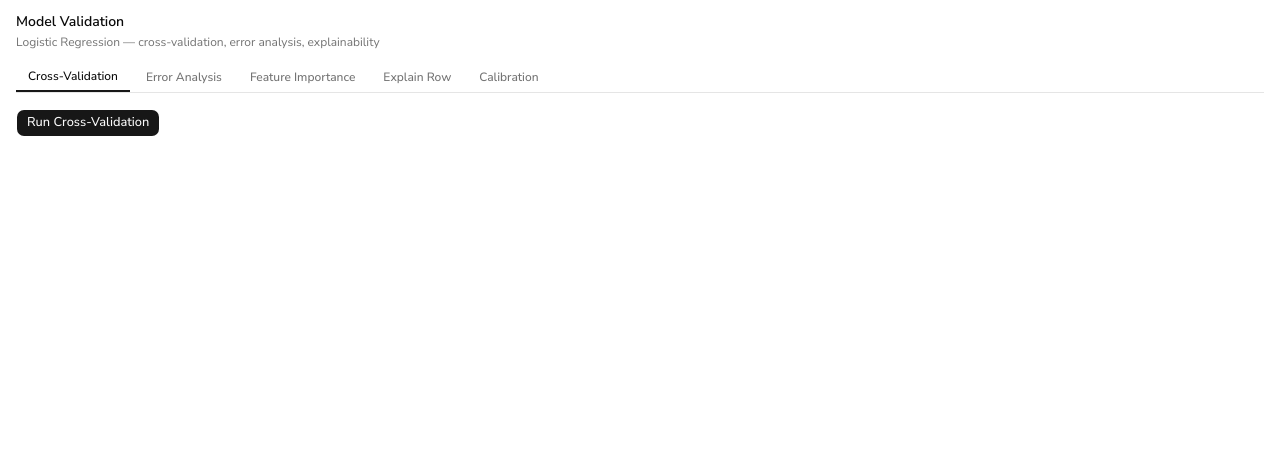
Test case: Calibration tab › shows Reliability Diagram heading after loading
Click the tab "Calibration" at point(509, 77), box [467,62,550,92]
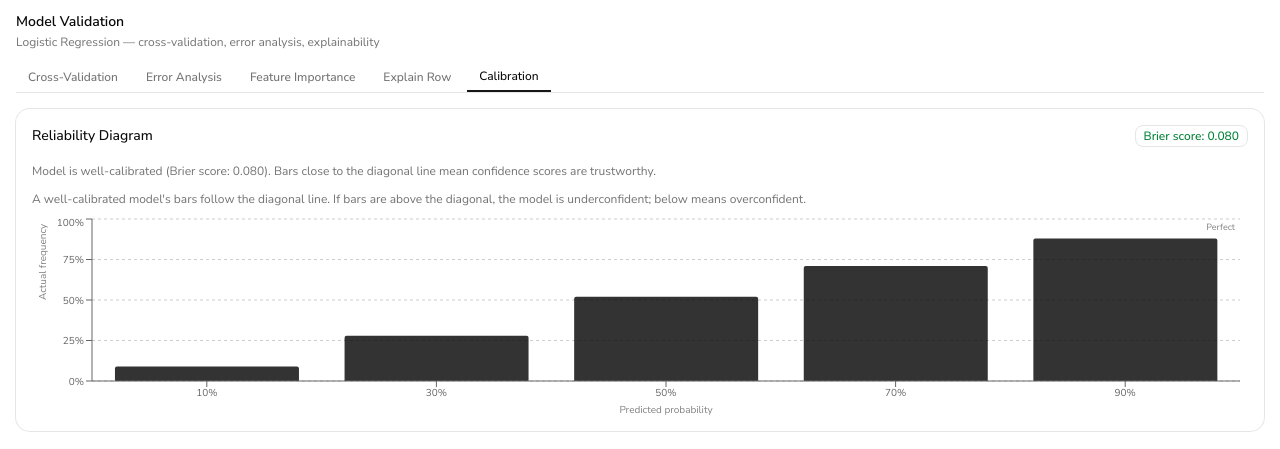
Result: the text "Reliability Diagram" is shown at [32,126,153,146]
